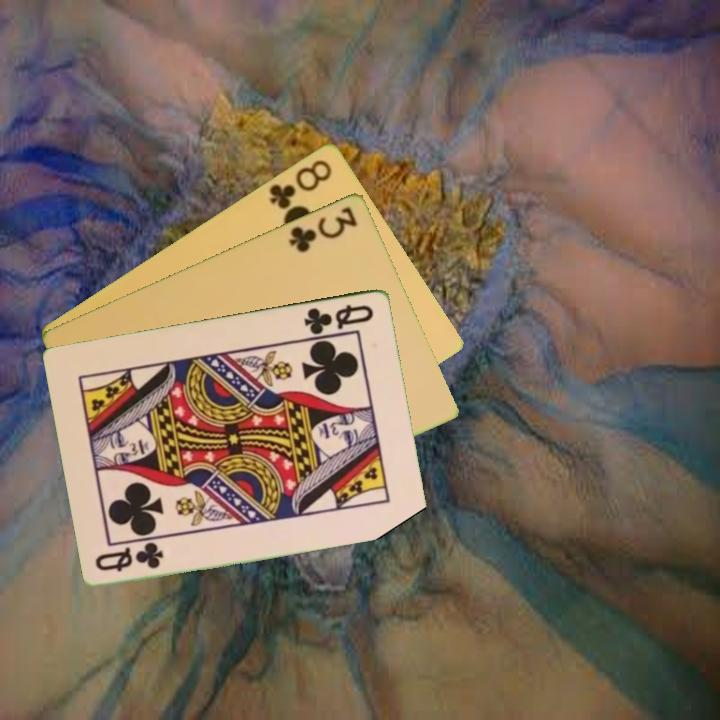3c: (285, 202, 361, 255)
8c: (265, 155, 335, 212)
Qc: (300, 300, 377, 337), (92, 540, 167, 574)
